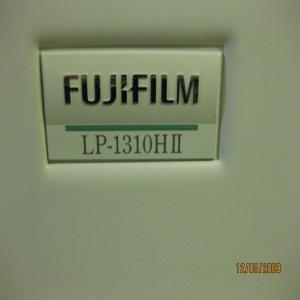Vehicle-registration-plate: (41, 45, 230, 162)
